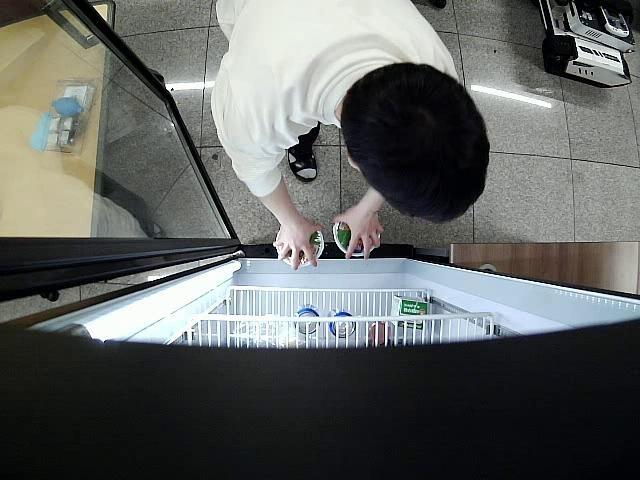09_yukGaeJang: (274, 227, 324, 268), (332, 216, 380, 256)
